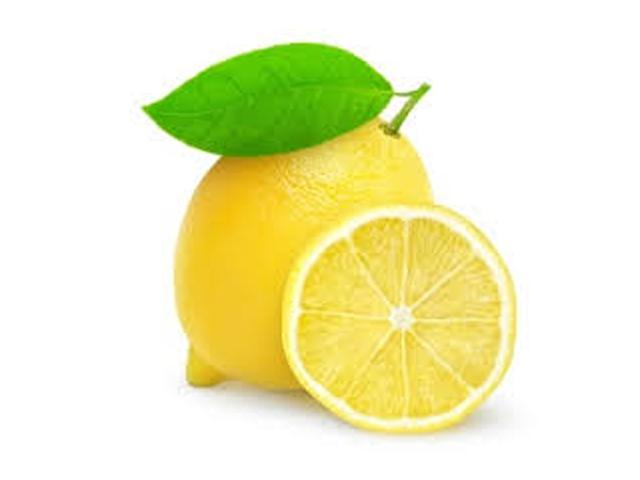lemon: (168, 75, 470, 417)
